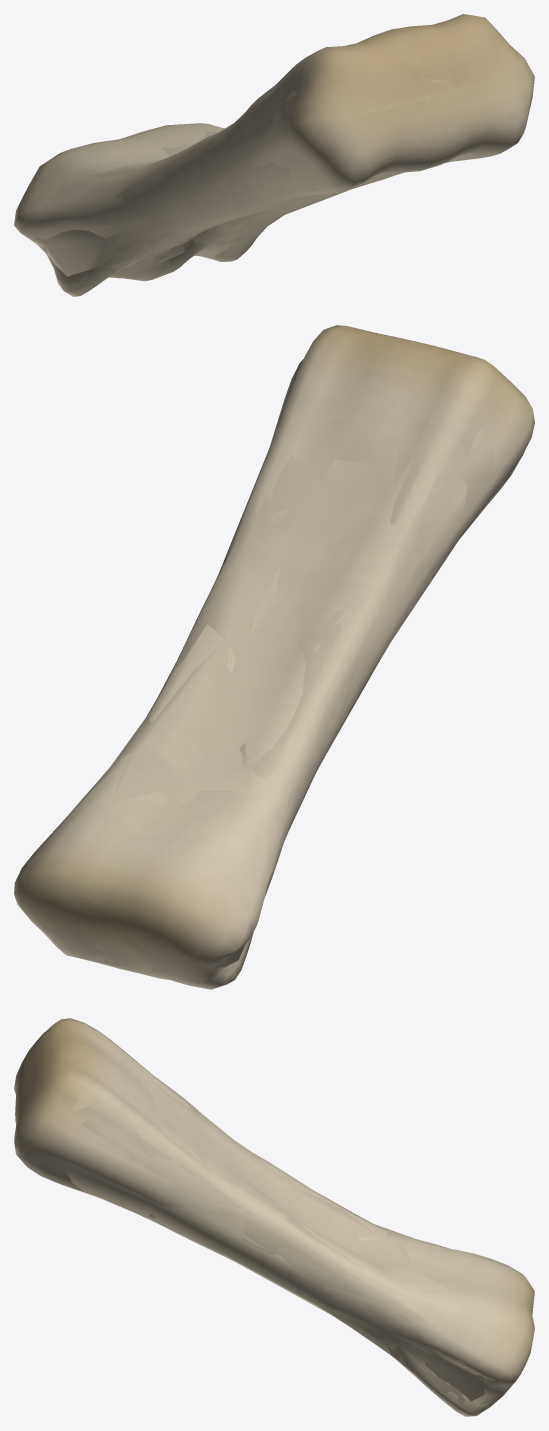
The model's file is vertebrae caudales 13.fbx.
3 renders of one model, top to bottom at view 1: azimuth 30°, elevation 25°; view 2: azimuth 150°, elevation 25°; view 3: azimuth 270°, elevation 25°, orthographic. The views are drawn at different scales.
Parts seen in each view (by area): view 1: vertebrae caudales 13, vertebrae caudales 13 high, vertebrae caudales 13 low; view 2: vertebrae caudales 13, vertebrae caudales 13 low, vertebrae caudales 13 high; view 3: vertebrae caudales 13, vertebrae caudales 13 low, vertebrae caudales 13 high.
Boxes of the visible parts, x1,y1,x2,y2 form: vertebrae caudales 13: (14, 14, 534, 296); vertebrae caudales 13 high: (15, 15, 534, 295); vertebrae caudales 13 low: (34, 86, 449, 276); vertebrae caudales 13: (14, 325, 534, 989); vertebrae caudales 13 low: (102, 421, 487, 971); vertebrae caudales 13 high: (14, 326, 533, 984); vertebrae caudales 13: (14, 1018, 534, 1416); vertebrae caudales 13 low: (66, 1067, 528, 1401); vertebrae caudales 13 high: (15, 1020, 534, 1416).
Bounding box in the file's own units: 2.03 × 3.64 × 5.05.
1 material, 1 textured.
